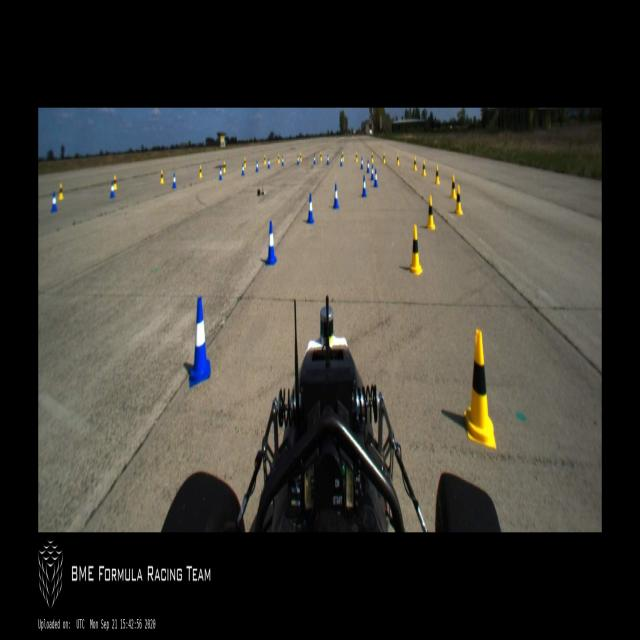blue_cone: (188, 298, 210, 387), (266, 221, 277, 264), (307, 193, 313, 223), (51, 192, 57, 212), (334, 184, 338, 208), (362, 175, 366, 197), (110, 180, 114, 198), (172, 174, 176, 188), (374, 169, 377, 186), (371, 165, 374, 180), (219, 168, 222, 180), (367, 160, 369, 173), (361, 157, 363, 169), (242, 163, 244, 175), (256, 160, 258, 172), (340, 156, 342, 167), (314, 154, 316, 164), (268, 158, 270, 168), (282, 157, 284, 166), (327, 156, 329, 164), (297, 156, 299, 164)
yellow_cone: (464, 330, 496, 448), (409, 224, 423, 274), (426, 196, 434, 230), (456, 184, 462, 214), (434, 166, 440, 185), (451, 176, 456, 198), (422, 160, 426, 176), (59, 184, 63, 199), (114, 176, 117, 190), (160, 170, 163, 184), (199, 166, 202, 178), (371, 152, 374, 163), (414, 157, 416, 171), (223, 163, 226, 172), (383, 152, 385, 165), (397, 154, 399, 166), (356, 152, 358, 162), (320, 152, 322, 162), (244, 158, 246, 167), (278, 154, 280, 163), (264, 156, 266, 164)
